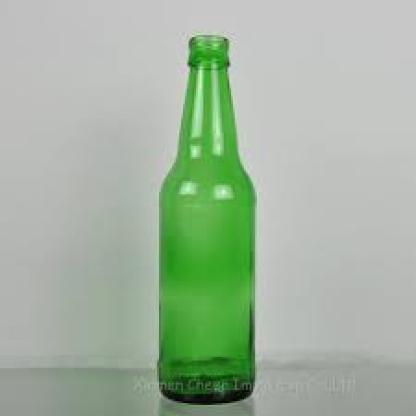Can: (155, 30, 258, 407)
